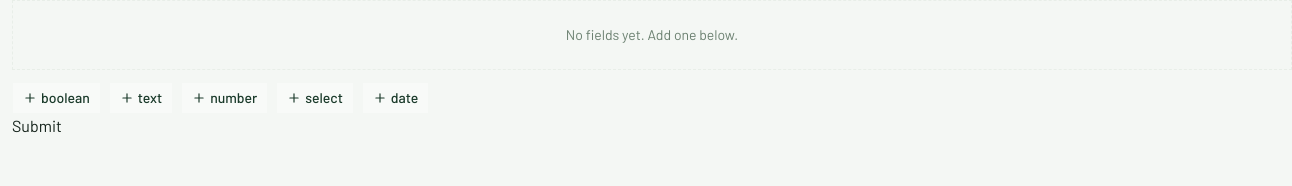
Test case: FieldBuilder › removes a field row when its remove button is clicked
The image size is (1292, 186).
Click the button "text": (141,98) 109,82 -> 173,114
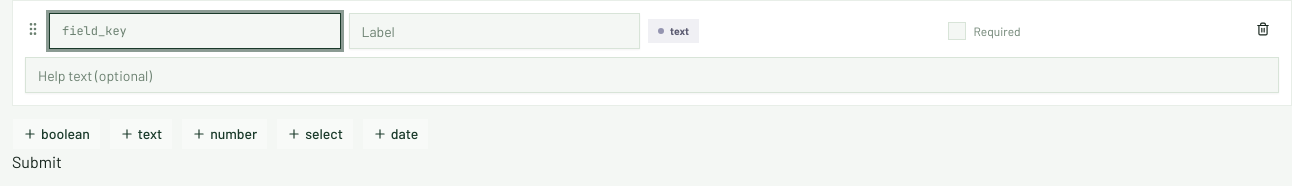
Now the field with placeholder "field_key" is shown, box 49,13 -> 340,49
Click the button named "remove field": (1263,29) 1247,13 -> 1279,45
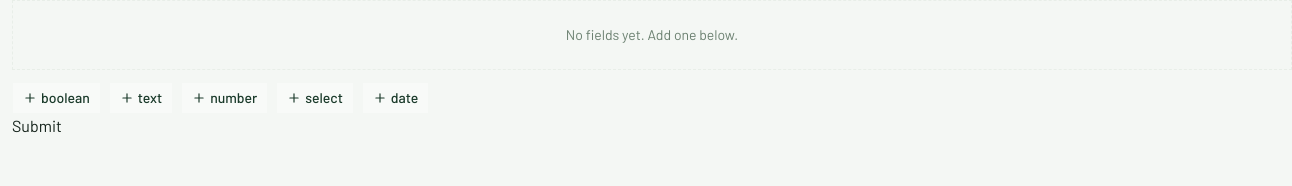
Now the text "No fields yet. Add one below." is shown, box 12,0 -> 1291,70
